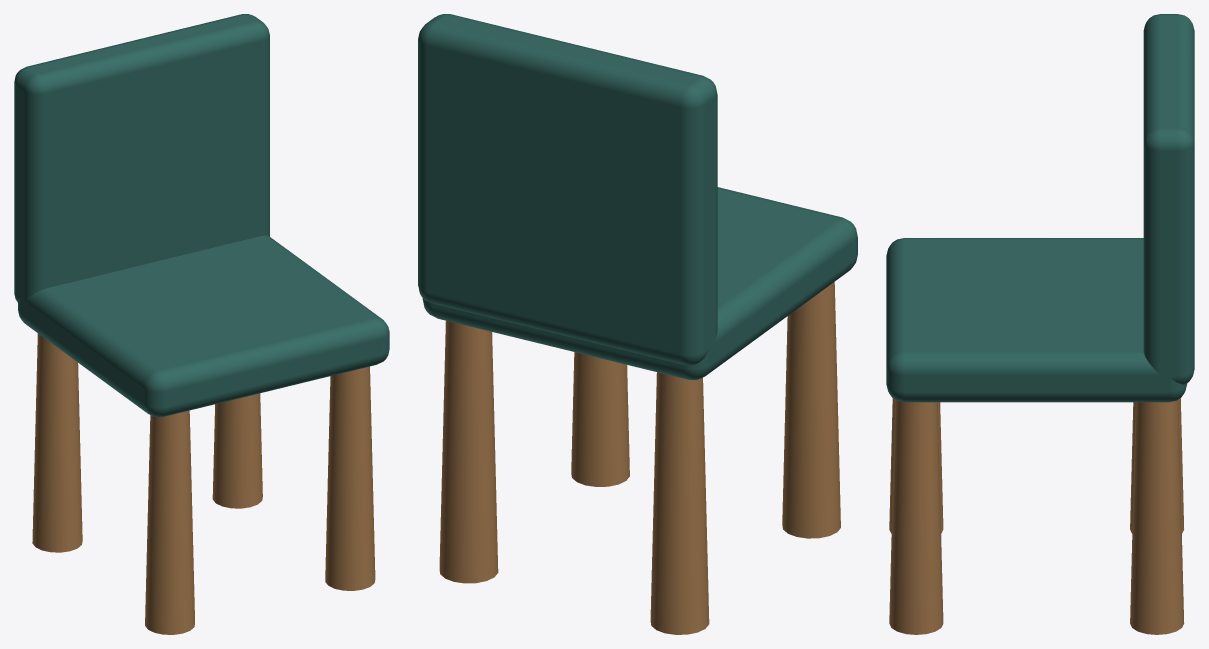
File: chair.glb
The picture shows the model from 3 angles, left to right: view 1: azimuth 30°, elevation 25°; view 2: azimuth 150°, elevation 25°; view 3: azimuth 270°, elevation 25°; orthographic projection. The views are drawn at different scales.
Visible parts, largest first — view 1: back, seat, leg (×4); view 2: back, leg (×4), seat; view 3: seat, leg (×4), back.
Boxes of the visible parts, x1=… form: back: x1=14, y1=14, x2=269, y2=302; seat: x1=18, y1=235, x2=389, y2=417; leg (×4): x1=32, y1=333, x2=375, y2=634; back: x1=418, y1=14, x2=717, y2=365; leg (×4): x1=439, y1=282, x2=840, y2=634; seat: x1=422, y1=187, x2=857, y2=379; seat: x1=886, y1=238, x2=1187, y2=402; leg (×4): x1=889, y1=398, x2=1184, y2=634; back: x1=1143, y1=14, x2=1194, y2=384.
Size of the model in its own units: 0.5 by 0.925 by 0.5125.
